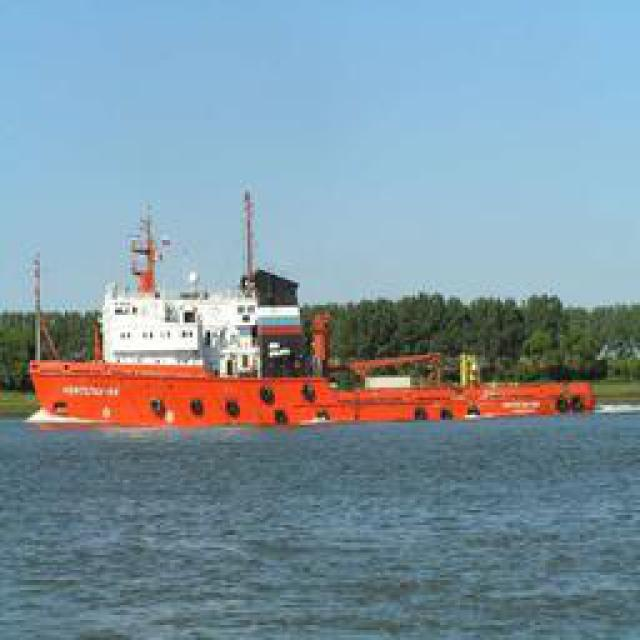Ship: (33, 181, 568, 426)
